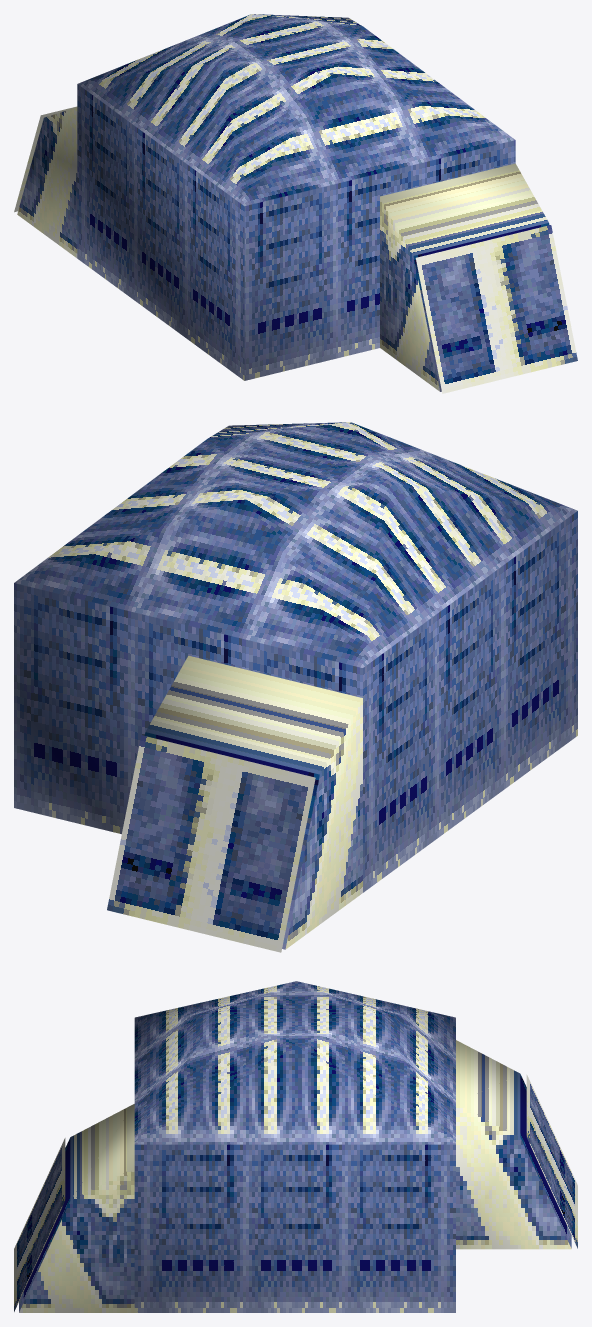
Rendered from PrisonZ_Anim.glb.
The picture shows the model from 3 angles, top to bottom: view 1: azimuth 30°, elevation 25°; view 2: azimuth 150°, elevation 25°; view 3: azimuth 270°, elevation 25°; orthographic projection. The views are drawn at different scales.
Visible parts, largest first — view 1: PrisonZ_Anim_part00, PrisonZ_Anim_part02, PrisonZ_Anim_part01; view 2: PrisonZ_Anim_part00, PrisonZ_Anim_part01; view 3: PrisonZ_Anim_part00, PrisonZ_Anim_part02, PrisonZ_Anim_part01.
Part boxes in pixels (x1,y1,x2,y2): PrisonZ_Anim_part00: (17,14,549,391); PrisonZ_Anim_part02: (415,225,577,393); PrisonZ_Anim_part01: (14,106,77,212); PrisonZ_Anim_part00: (14,422,577,949); PrisonZ_Anim_part01: (107,735,315,952); PrisonZ_Anim_part00: (19,981,571,1312); PrisonZ_Anim_part02: (14,1138,65,1311); PrisonZ_Anim_part01: (526,1074,577,1248).
Bounding box in the file's own units: 24.35 × 20.86 × 45.62.
5 materials, 5 textured.
